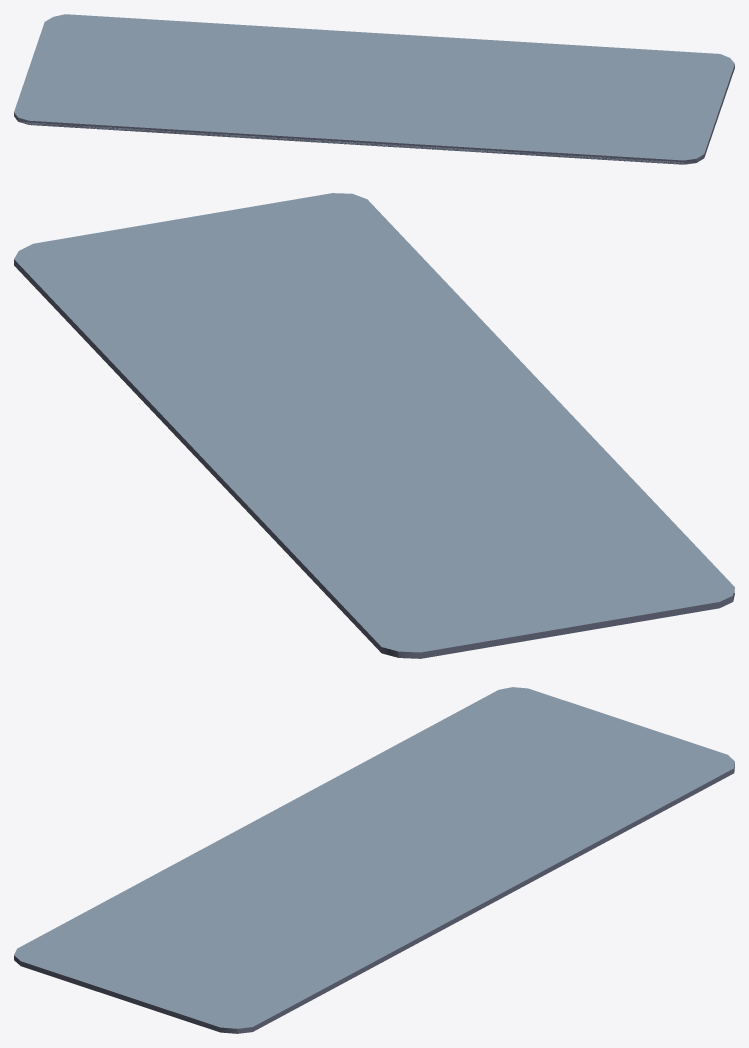
Rendered from keyboard_pad.fbx.
The picture shows the model from 3 angles, top to bottom: view 1: azimuth 30°, elevation 25°; view 2: azimuth 150°, elevation 25°; view 3: azimuth 270°, elevation 25°; orthographic projection. The views are drawn at different scales.
Visible parts, largest first — view 1: keyboard_pad; view 2: keyboard_pad; view 3: keyboard_pad.
Boxes of the visible parts, x1=… form: keyboard_pad: x1=14, y1=14, x2=734, y2=164; keyboard_pad: x1=14, y1=193, x2=734, y2=658; keyboard_pad: x1=14, y1=687, x2=734, y2=1033.
Bounding box in the file's own units: 1.69 × 0.0116 × 1.5.
